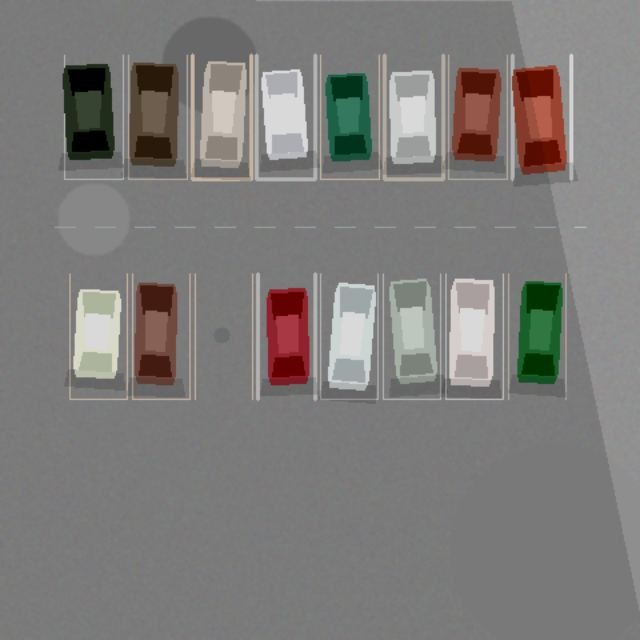space-empty: (195, 273, 252, 399)
space-occupied: (64, 55, 123, 179), (128, 55, 187, 179), (192, 55, 251, 179), (256, 55, 315, 179), (320, 55, 379, 179), (384, 55, 443, 179), (448, 55, 507, 179), (512, 55, 571, 179), (69, 273, 127, 399), (257, 273, 315, 399), (445, 273, 503, 399), (132, 273, 189, 399), (320, 273, 377, 399), (383, 273, 440, 399), (508, 273, 565, 399)
